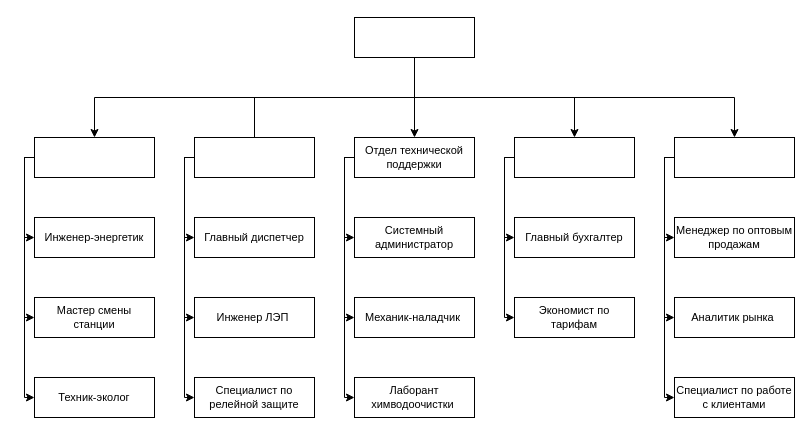
This 812x435 diagram has some shape labels left out. Here are the shapes that lost their labels. From the top down, the centre of each, then its label:
At point (414, 37): "Гениральный директор".
At point (94, 157): "Отдел генерации".
At point (254, 157): "Гениральный энергосетей".
At point (574, 157): "Бухгалтерия".
At point (734, 157): "Отдел комерции и сбыта".
